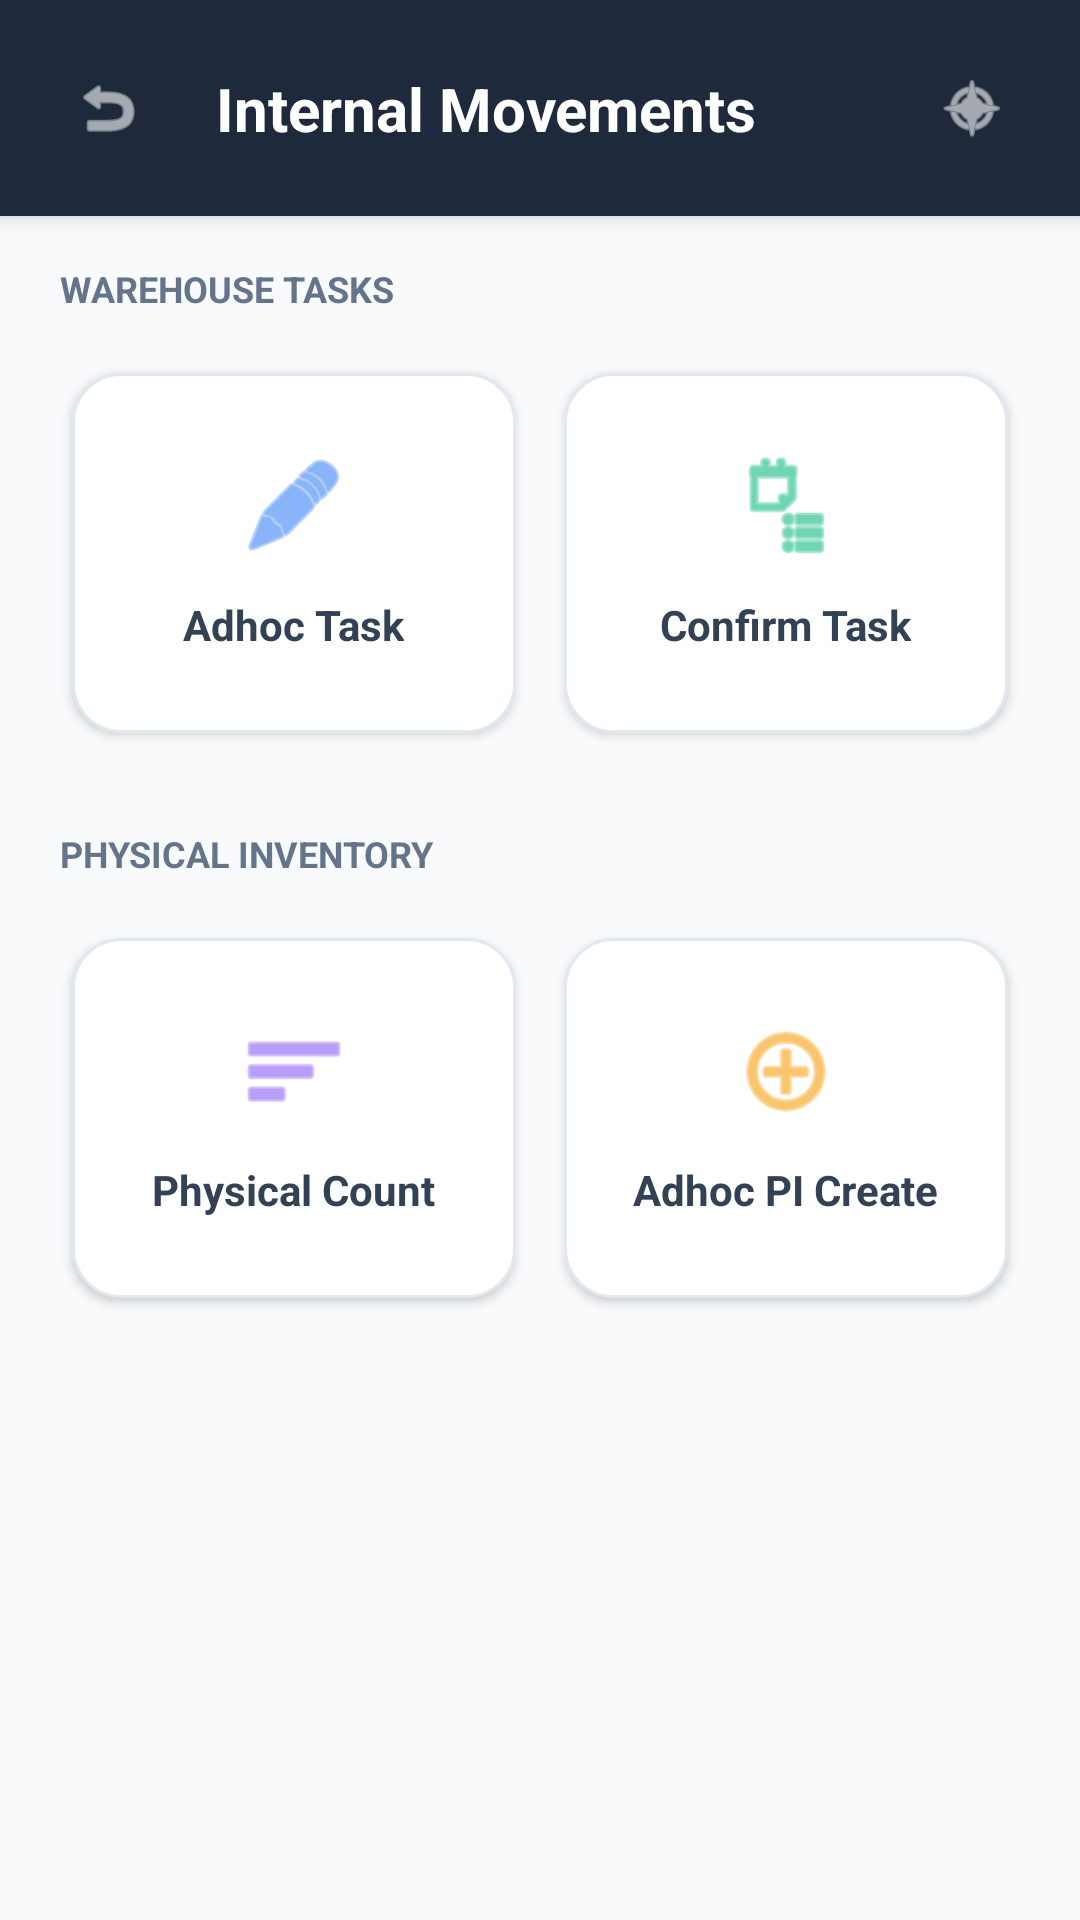

Where to tap for icons on this 1080px×1920px app screen, as [x,y]:
add: [786,1071]
agenda: [787,505]
compass: [971,108]
edit: [293,505]
revert: [109,108]
sort by size: [294,1071]
